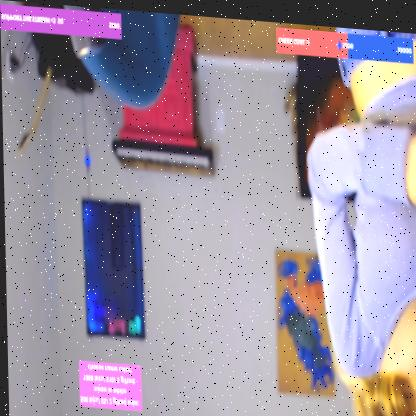streamer: (303, 19, 416, 416)
